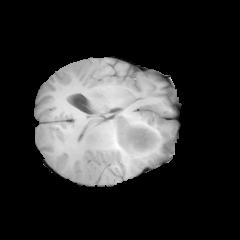glioma: (60, 109, 171, 154)
